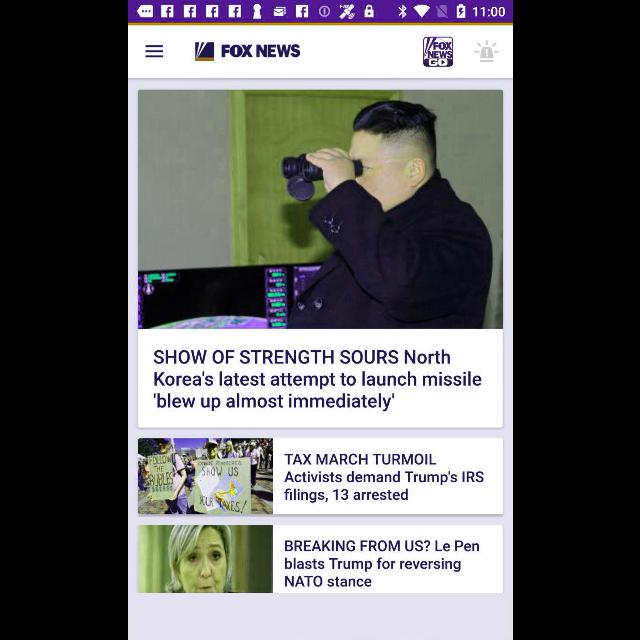icon: (145, 46, 163, 59)
image: (138, 90, 502, 330), (138, 438, 272, 514), (138, 525, 272, 593), (422, 37, 452, 67), (474, 41, 498, 63), (194, 42, 213, 62)
panel: (138, 90, 502, 428), (137, 438, 503, 514), (137, 525, 503, 593)
text: (153, 348, 481, 412), (283, 453, 483, 502), (284, 540, 478, 586), (220, 44, 300, 58)
toolbar: (128, 26, 512, 78)
uppertaskbar: (128, 1, 512, 23)
